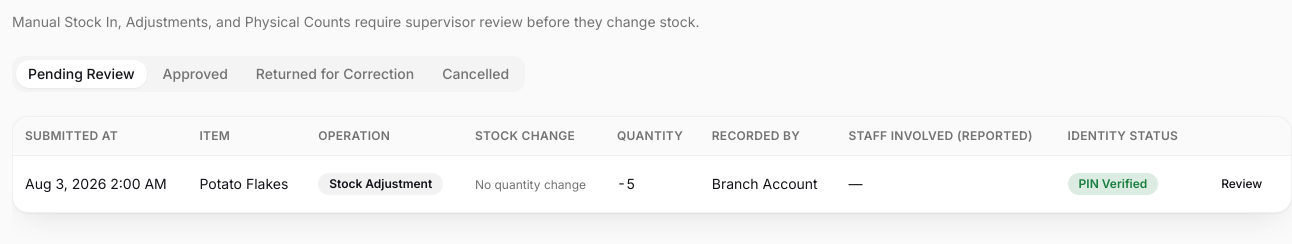
Test: InventoryApprovalQueue — Recorded By / Identity Status › shows Reviewed By (not Submitted By) for the approving supervisor on the Approved tab
This screenshot has width=1292, height=244.
// Radix Tabs activates on pointerdown/mousedown, not click.
Press the mouse on the tab "Approved" at (195, 74), box [151,60,240,88]
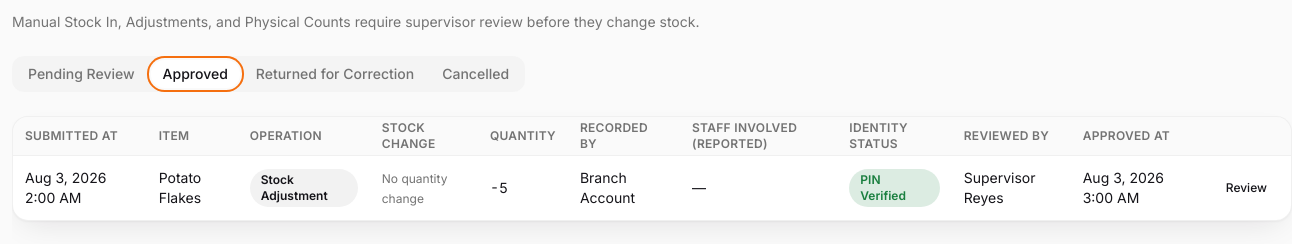
Check: the text "PIN Verified" is shown, box [849,168,940,206]
Check: the column heading "Reviewed By" is shown, box [952,117,1071,155]
Check: the text "Supervisor Reyes" is shown, box [952,155,1071,220]
